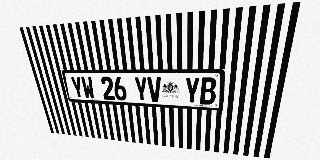2: (100, 76, 115, 100)
6: (112, 77, 127, 101)
B: (200, 77, 217, 105)
V: (147, 77, 162, 102)
W: (80, 76, 95, 99)
Y: (185, 77, 200, 104), (133, 77, 148, 102), (70, 76, 85, 99)
